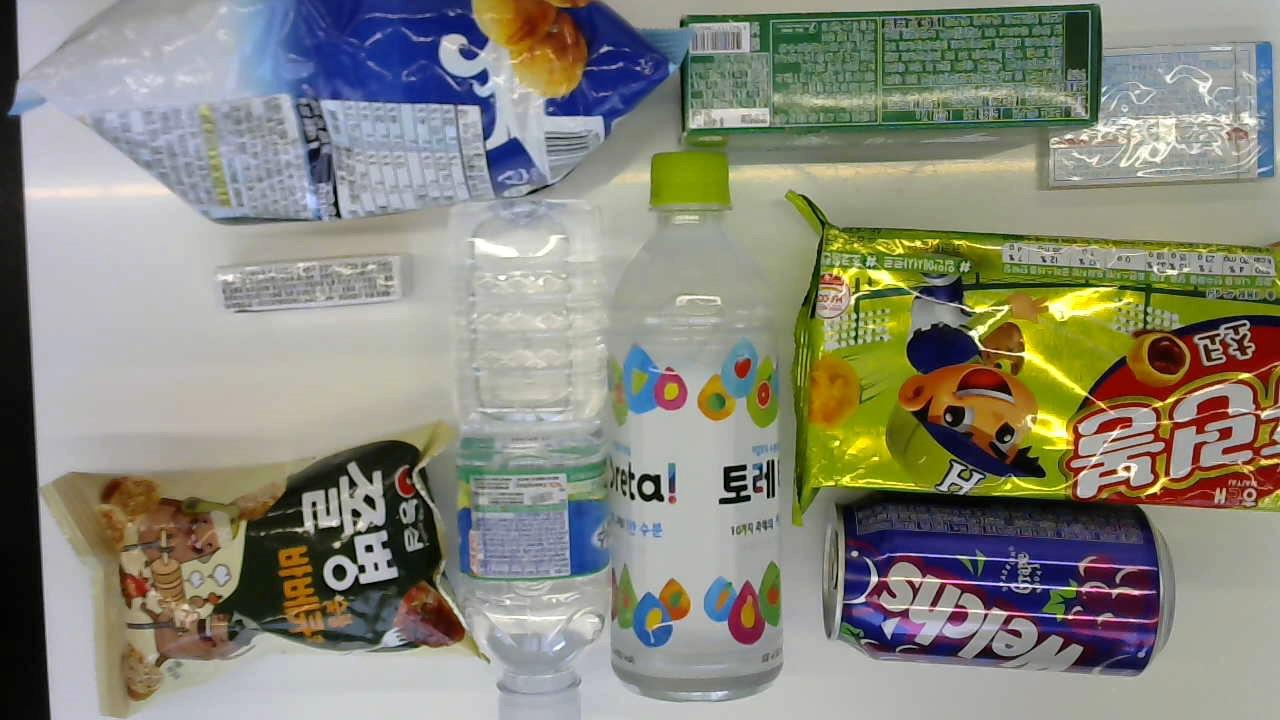ID_gum: (1035, 34, 1280, 192)
couque_coffee: (681, 10, 1098, 162)
homerunball: (784, 186, 1280, 522)
jjolbyung_ori: (43, 419, 488, 720)
samdasu: (454, 193, 609, 716)
spearmint: (214, 246, 408, 313)
squid_peanut: (15, 0, 684, 250)
toreta: (616, 145, 786, 703)
welchs: (824, 481, 1177, 681)
